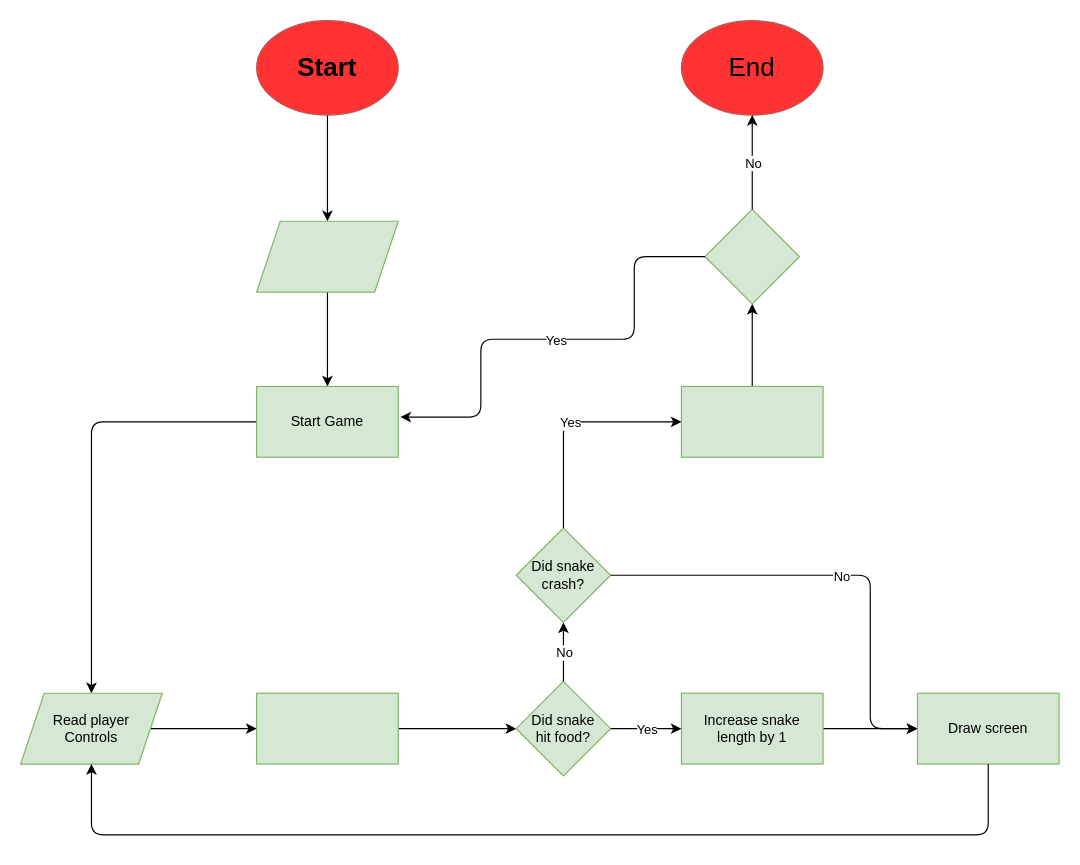
Some shapes in this 1080 by 865 pixel diagram are drawn without their labels. The shapes that lost their labels are listed below. From the top down, each one's box as (x1, y1, x2, y2) in pixels, then its label:
(255, 220, 398, 292): Ask for player name
(704, 208, 799, 304): Play again
(680, 385, 823, 457): Print score
(255, 692, 398, 764): Update snake position and direction
